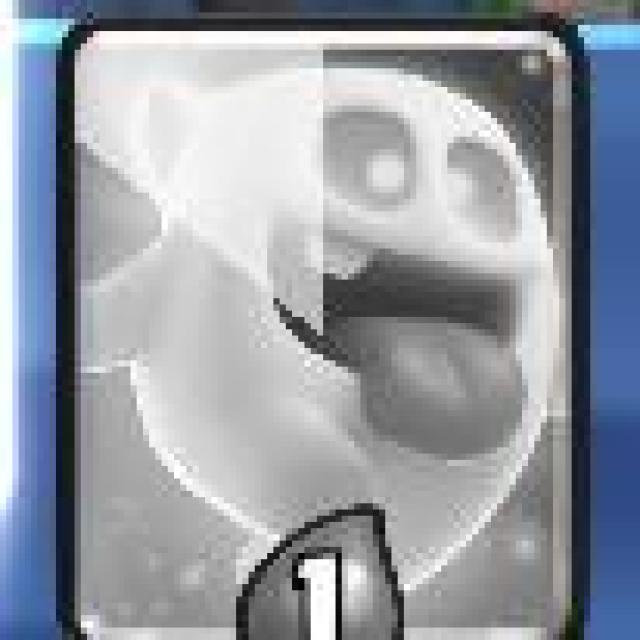Heal_Spirit: (60, 18, 587, 640)
